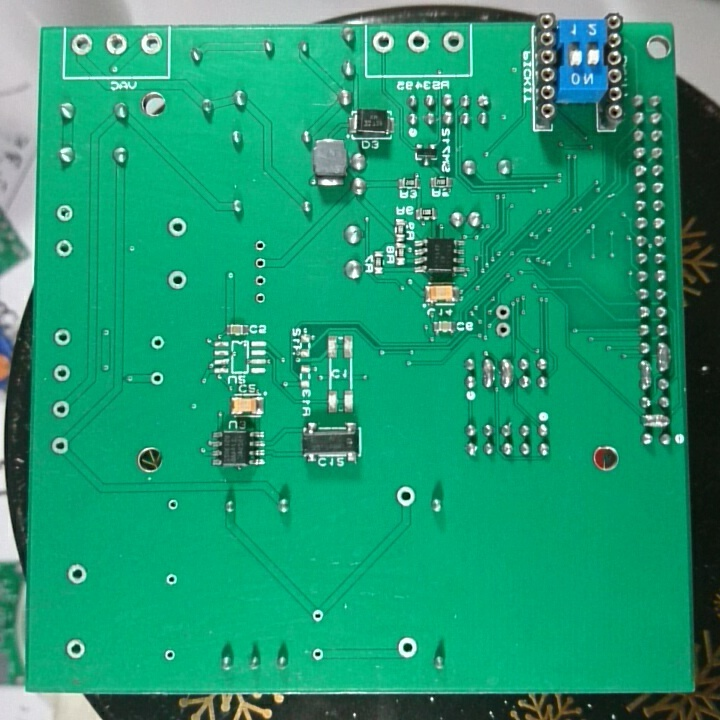F: (102, 30, 130, 58), (439, 28, 467, 56), (137, 31, 165, 58), (370, 28, 396, 57), (392, 483, 418, 510), (69, 31, 94, 59), (405, 28, 431, 54), (395, 635, 419, 661), (65, 562, 89, 587), (51, 361, 74, 386), (165, 215, 188, 240), (51, 325, 74, 349), (63, 638, 88, 660), (165, 269, 189, 291), (49, 434, 71, 457), (50, 398, 71, 419), (54, 203, 75, 224), (492, 319, 514, 339), (147, 368, 166, 390), (54, 238, 74, 258), (309, 606, 328, 626), (160, 646, 179, 666), (162, 570, 182, 589), (147, 333, 166, 353), (493, 302, 513, 320), (163, 495, 181, 515), (251, 289, 271, 307), (251, 252, 269, 270), (309, 646, 328, 663), (251, 271, 267, 290), (252, 238, 268, 255)
P: (637, 411, 674, 430), (497, 355, 515, 392), (654, 340, 673, 375), (479, 355, 496, 392), (637, 358, 655, 392)
